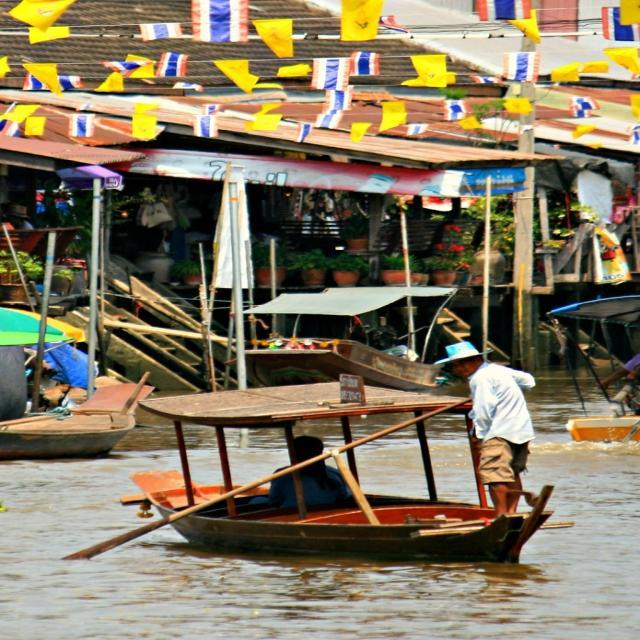boat: (128, 468, 538, 569)
